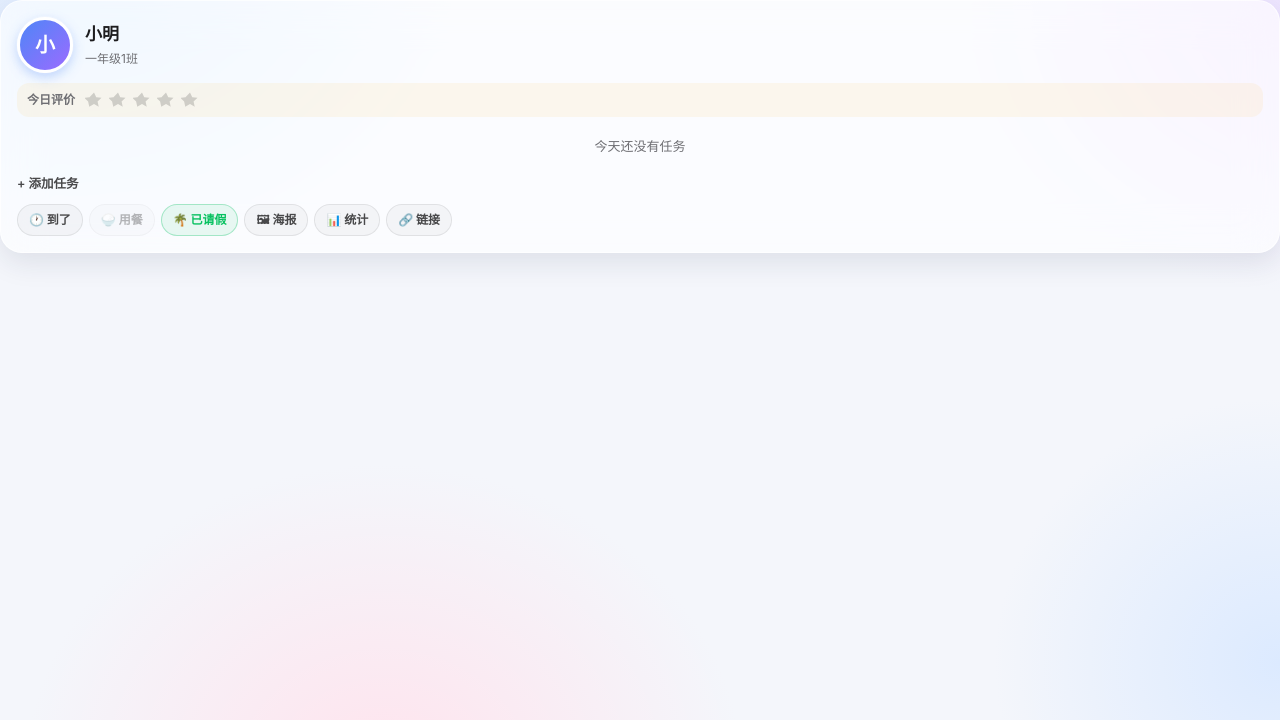
Scenario: StudentCard arrival chip › asks for confirmation before overwriting an existing leave record, and does nothing on cancel
Click the button "🕐 到了" at (50, 220), box [17,204,83,236]
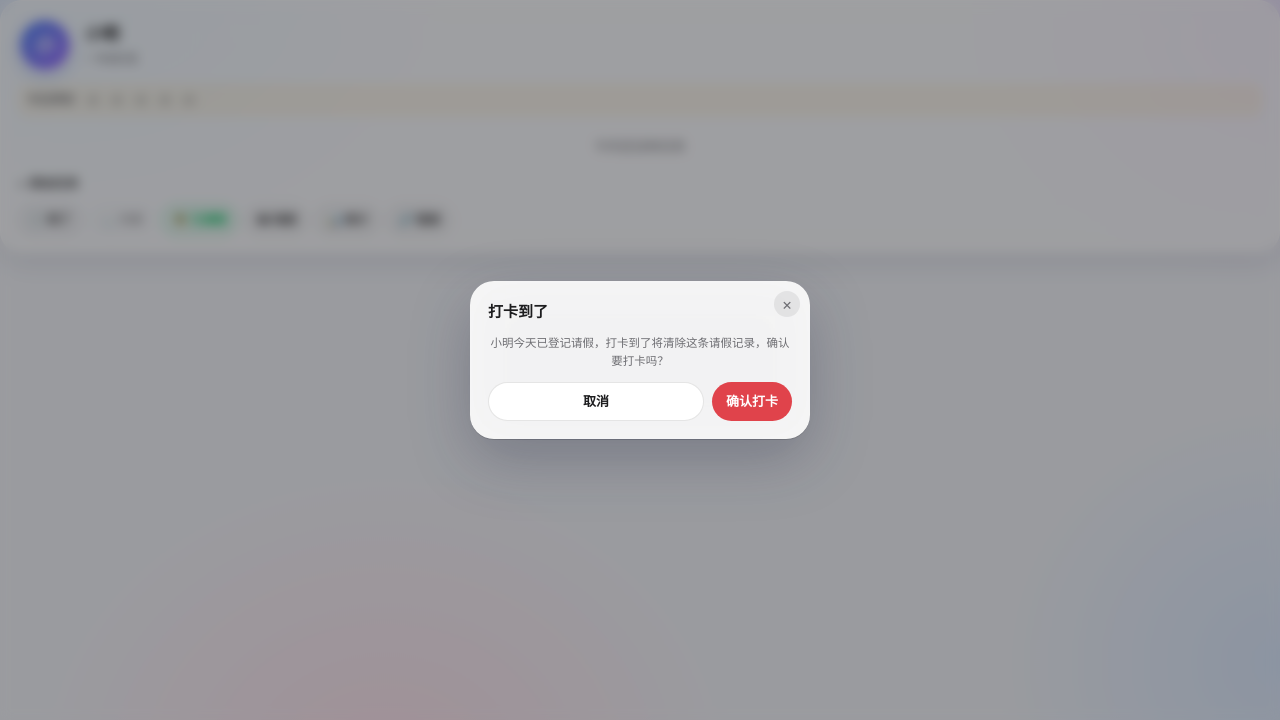
Check: the text "今天已登记请假" is shown, box [490,336,790,368]
Click the button "取消" at (596, 402), box [488,382,704,421]
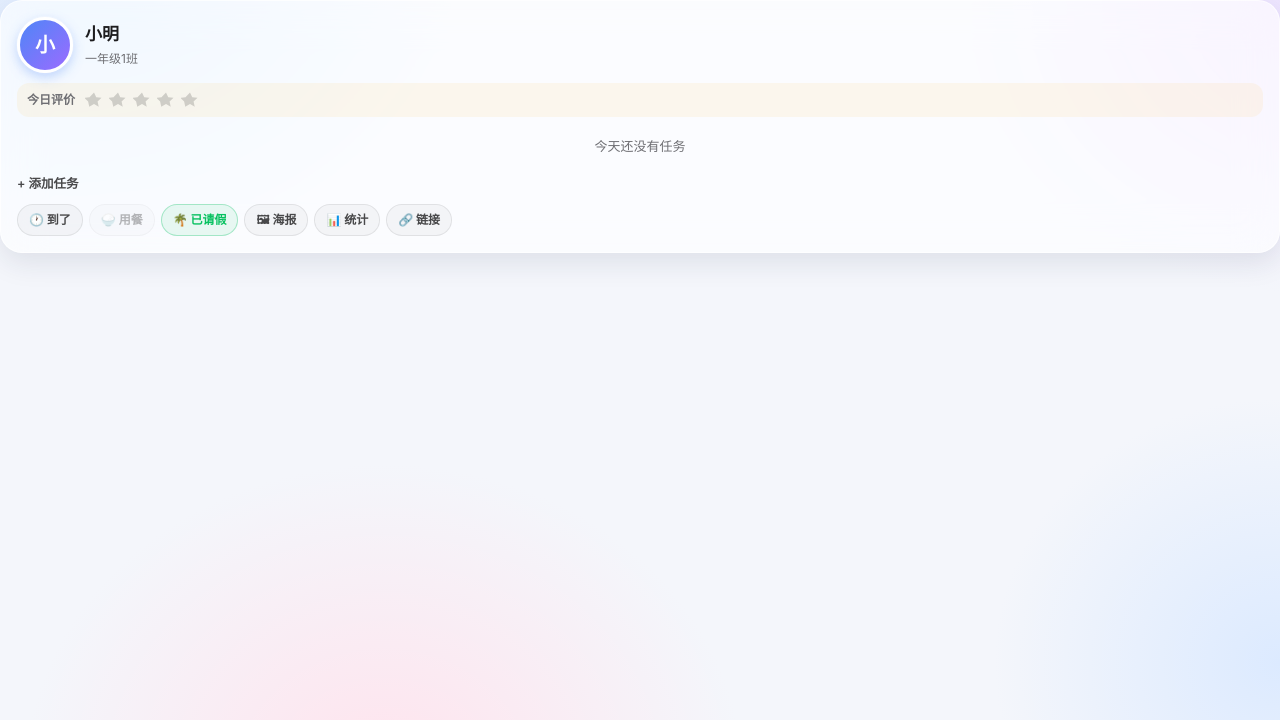
Check: the text "今天已登记请假" is gone
